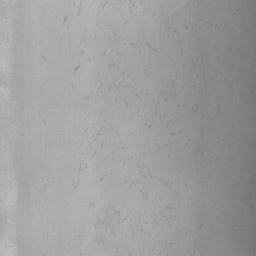Silk spot: (144, 111, 205, 167), (91, 204, 127, 245), (79, 130, 104, 171), (125, 155, 152, 184), (156, 82, 180, 107), (108, 59, 134, 81), (74, 50, 90, 72), (131, 40, 157, 53), (97, 82, 120, 90)
